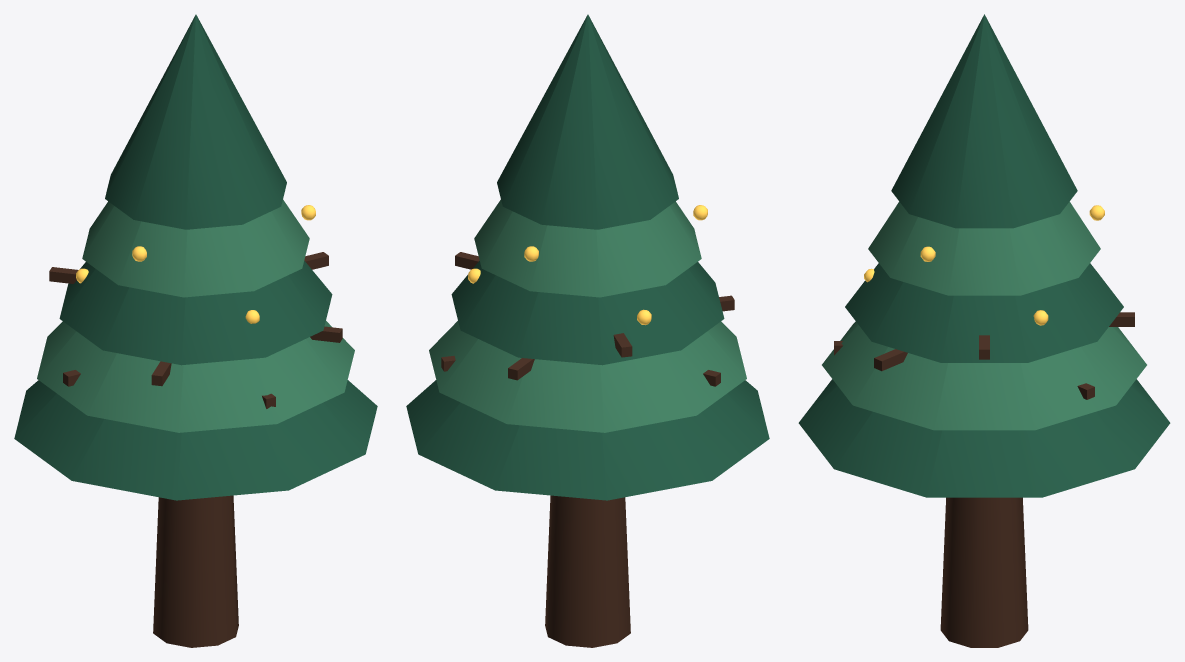
File: ledger-pine-lod0.glb
3 renders of one model, left to right at view 1: azimuth 30°, elevation 25°; view 2: azimuth 150°, elevation 25°; view 3: azimuth 270°, elevation 25°, orthographic.
Parts seen in each view (by area): view 1: MESH_ledger_pine_foliage, MESH_ledger_pine_foliageLight, MESH_ledger_pine_bark, MESH_ledger_pine_fruit; view 2: MESH_ledger_pine_foliage, MESH_ledger_pine_foliageLight, MESH_ledger_pine_bark, MESH_ledger_pine_fruit; view 3: MESH_ledger_pine_foliage, MESH_ledger_pine_foliageLight, MESH_ledger_pine_bark, MESH_ledger_pine_fruit.
Boxes of the visible parts, x1,y1,x2,y2 form: MESH_ledger_pine_foliage: (14, 14, 377, 500); MESH_ledger_pine_foliageLight: (37, 199, 354, 432); MESH_ledger_pine_bark: (49, 252, 342, 647); MESH_ledger_pine_fruit: (76, 205, 315, 323); MESH_ledger_pine_foliage: (406, 14, 769, 500); MESH_ledger_pine_foliageLight: (429, 199, 746, 432); MESH_ledger_pine_bark: (441, 252, 734, 647); MESH_ledger_pine_fruit: (468, 205, 707, 325); MESH_ledger_pine_foliage: (798, 14, 1170, 497); MESH_ledger_pine_foliageLight: (822, 201, 1146, 430); MESH_ledger_pine_bark: (834, 312, 1134, 647); MESH_ledger_pine_fruit: (864, 205, 1104, 325).
Bounding box in the file's own units: 5.8 × 11.15 × 6.1.
